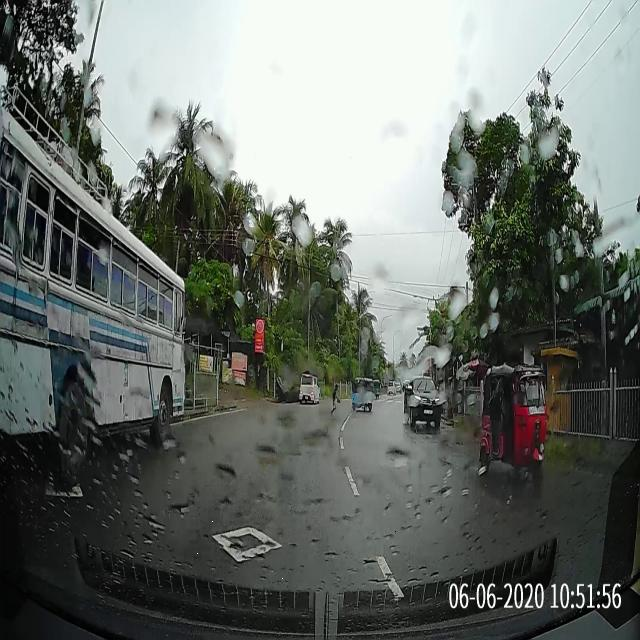diamond: (182, 507, 398, 589)
